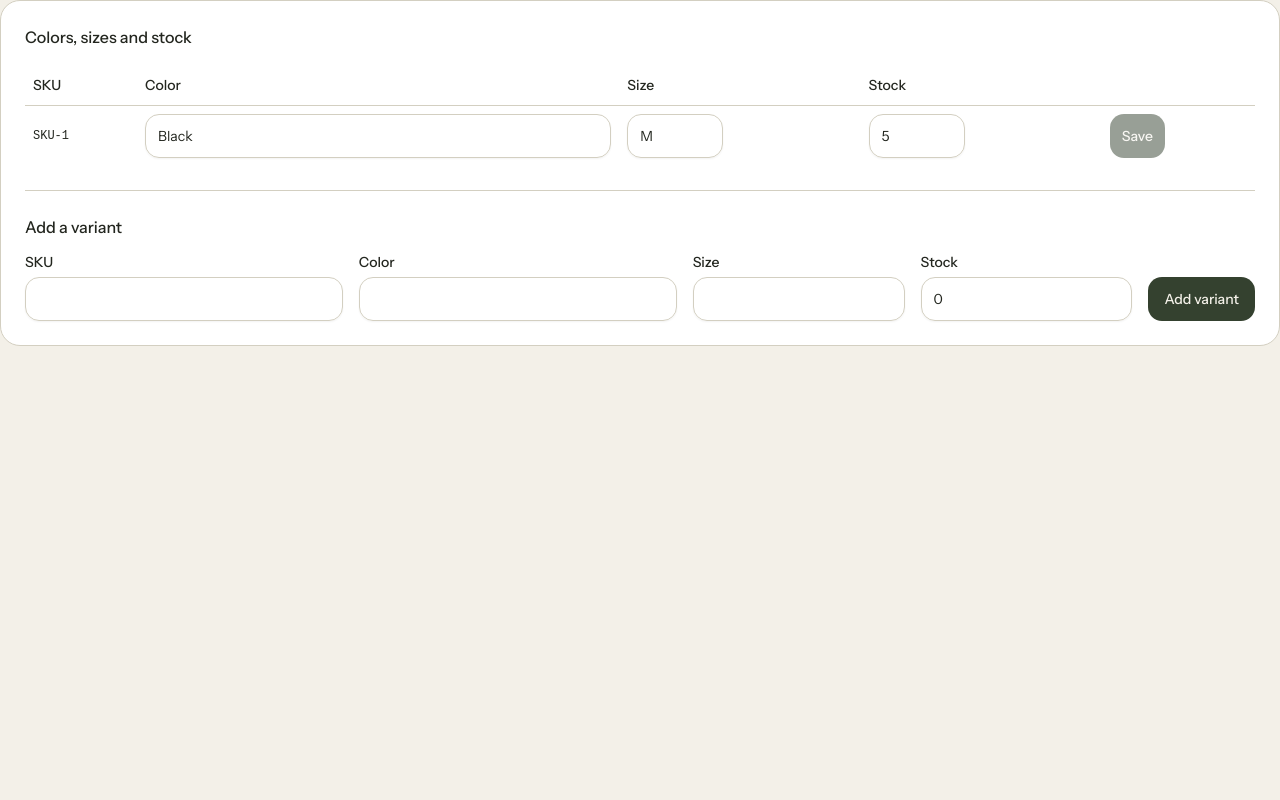
Test case: VariantsSection: the variants of a product › changing a variant › sends the color and the size when those are changed
The width and height of the screenshot is (1280, 800).
Replace the text in the field named "Color of SKU-1" with " Navy " at (378, 136), box [145,114,611,158]
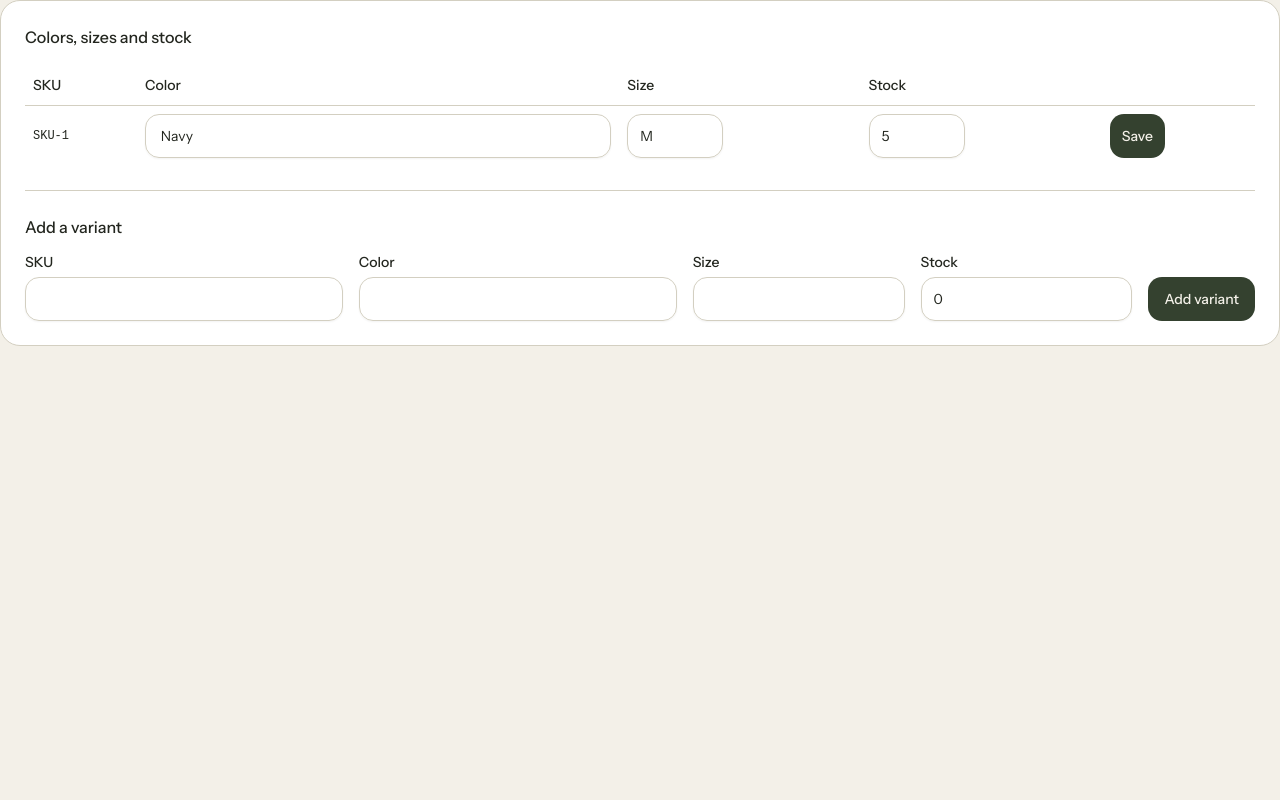
Replace the text in the field named "Size of SKU-1" with "L" at (675, 136), box [627,114,723,158]
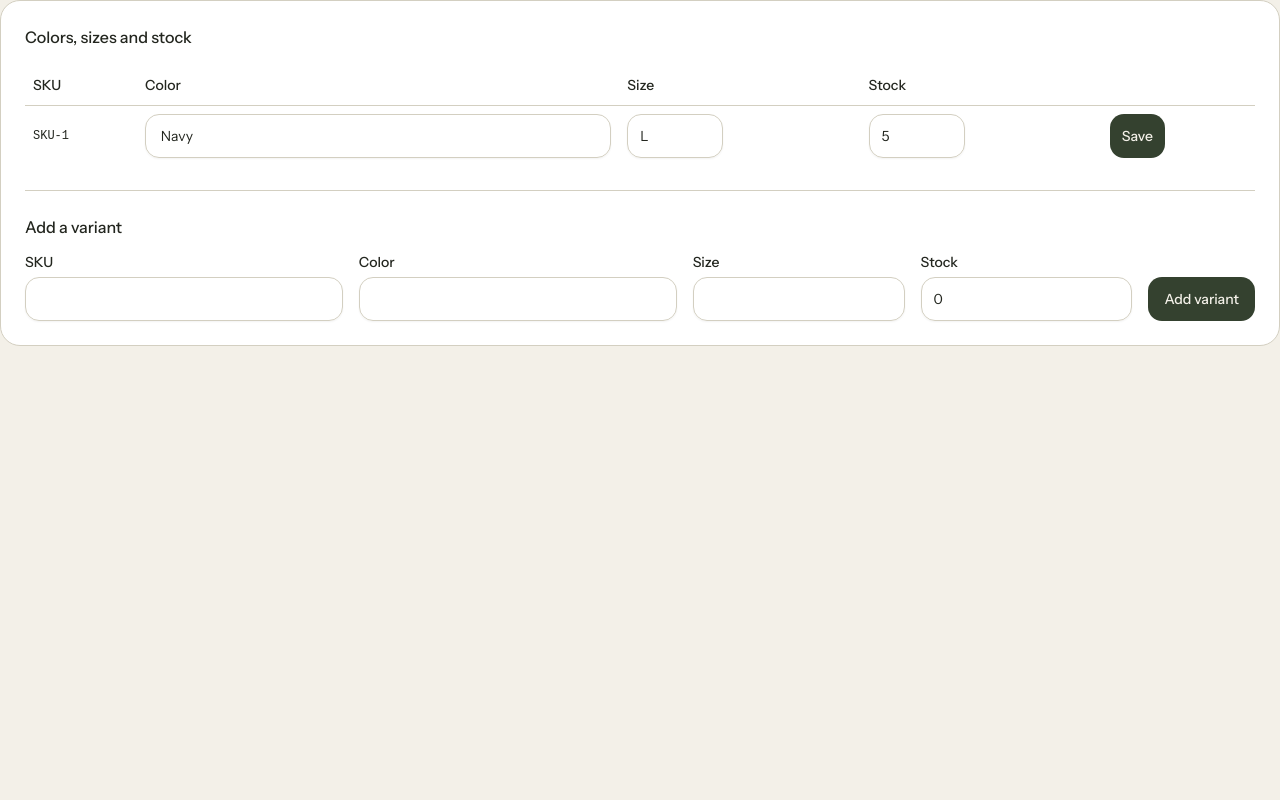
Click the button "Save" at (1137, 136), box [1110,114,1165,158]
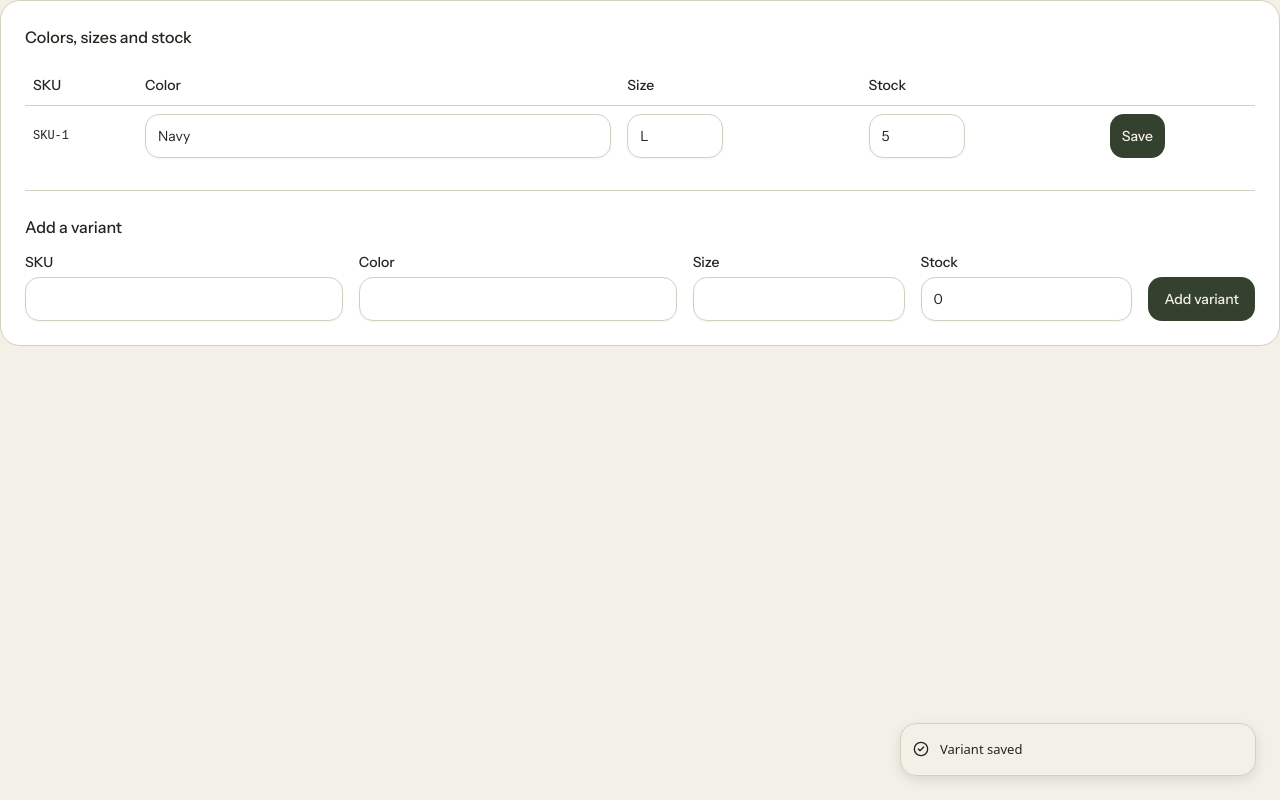
Now the text "Variant saved" is shown, box [940,740,1022,759]
